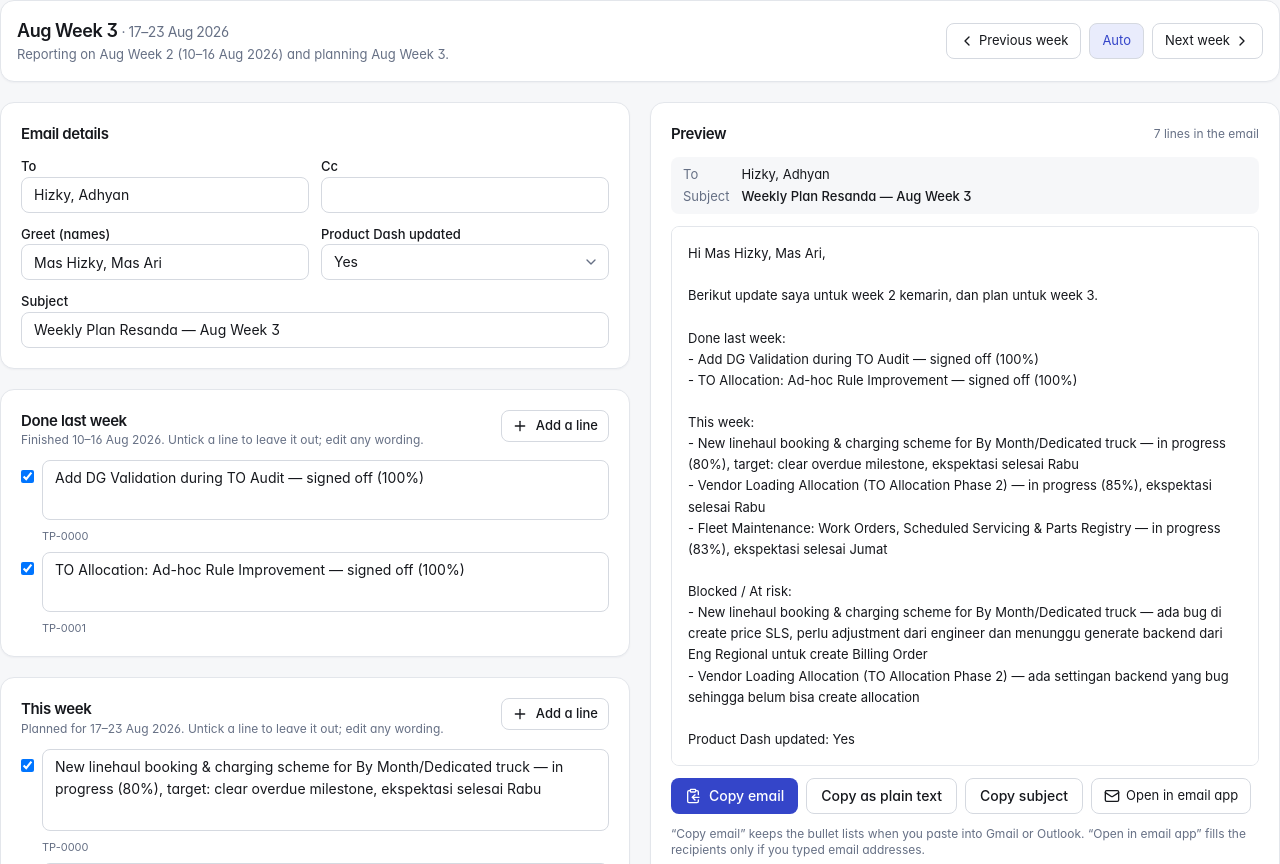
Weekly Report page › subject can be edited and reset; recipients and names flow into the email
Later steps or results of the test are not shown.
Clear the field showing "Weekly Plan Resanda — Aug Week 3": (315,330) [21,312,609,348]
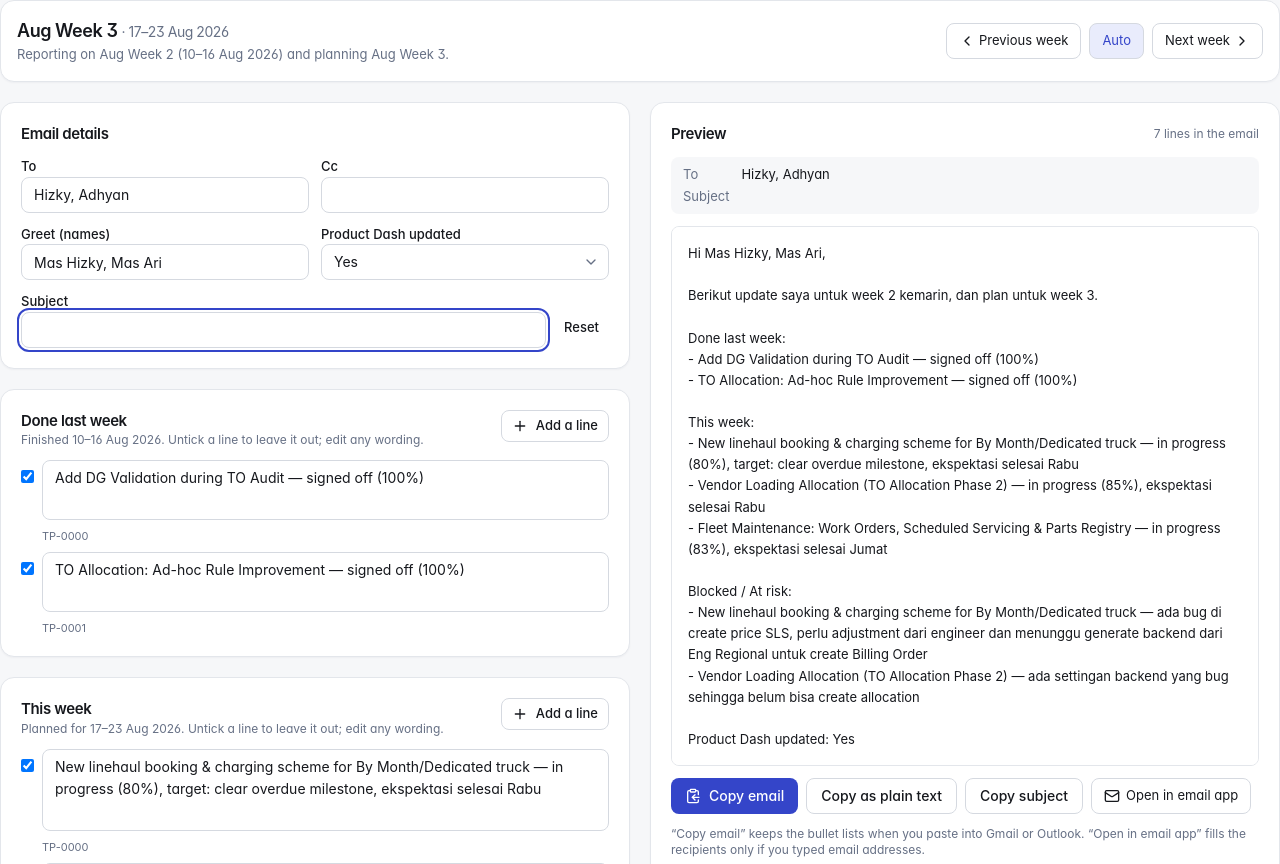
In the field showing "Weekly Plan Resanda — Aug Week 3": (284,330) [21,312,546,348], type "Custom subject"
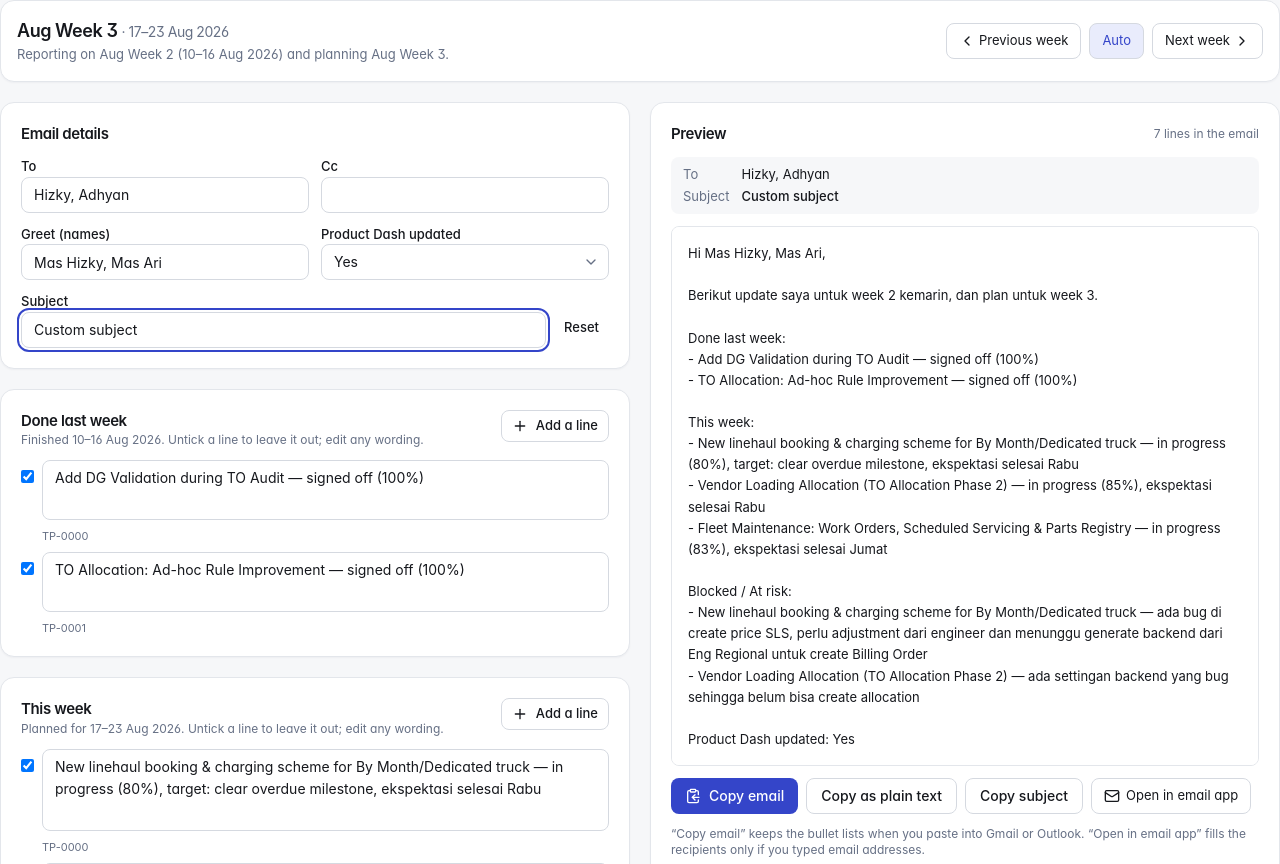
Expected: the text "Custom subject" is shown, [741,188,839,204]
Click the button "Reset": (582,328) [554,312,609,344]
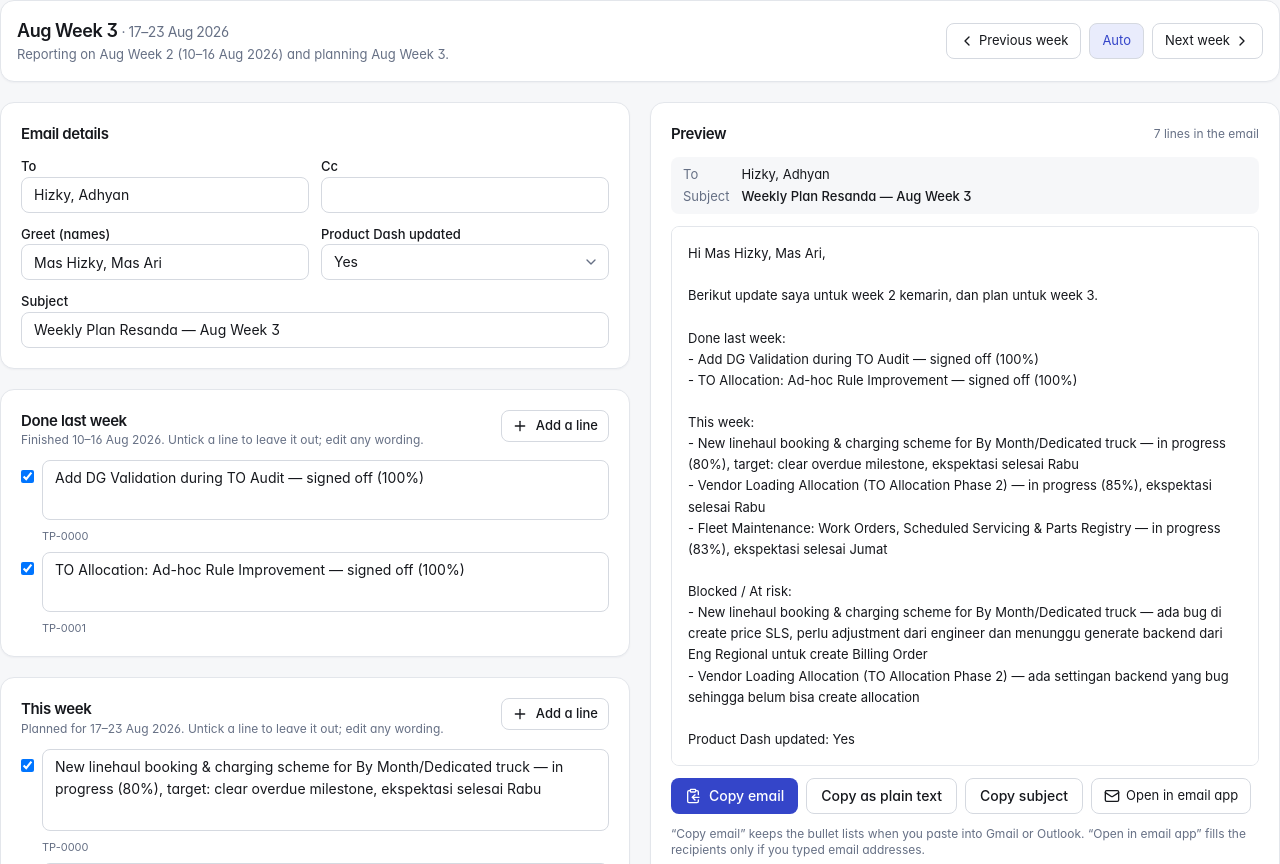
Expected: the text "Weekly Plan Resanda — Aug Week 3" is shown, [741,188,971,204]
